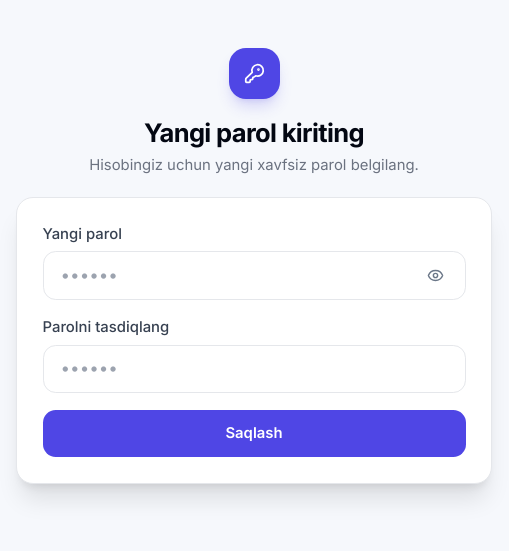
Test: ResetPassword sahifasi › server recovery tokenni rad etsa, muvaffaqiyat haqida yolg‘on xabar chiqmaydi
Step 1. Type "NewStrong123!" into the password field labelled "Yangi parol" → (254, 276), box x1=42 y1=251 x2=466 y2=300
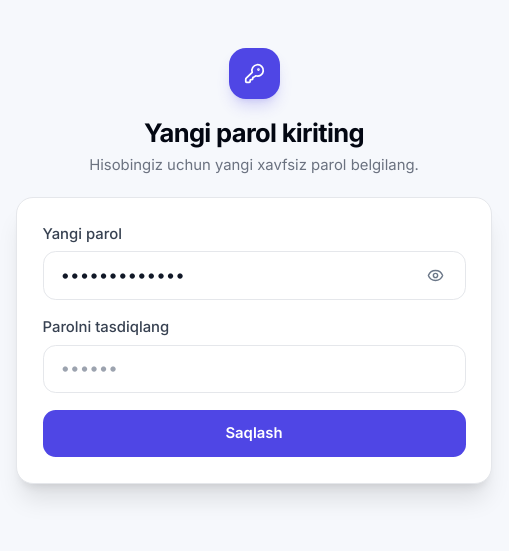
Step 2. Type "NewStrong123!" into the password field labelled "Parolni tasdiqlang" → (254, 369), box x1=42 y1=345 x2=466 y2=393
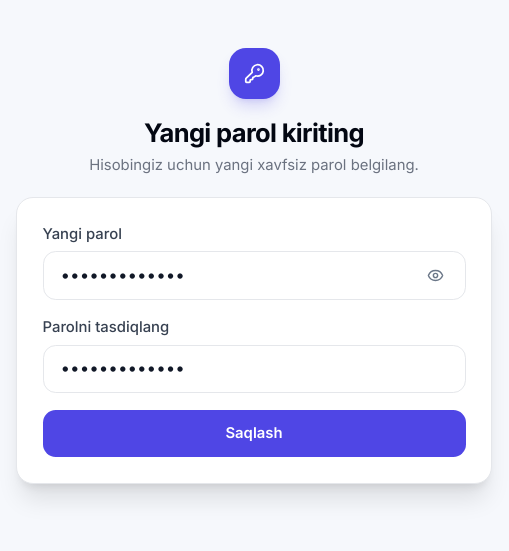
Step 3. Submit the form labelled "Yangi parol", box x1=42 y1=224 x2=466 y2=457
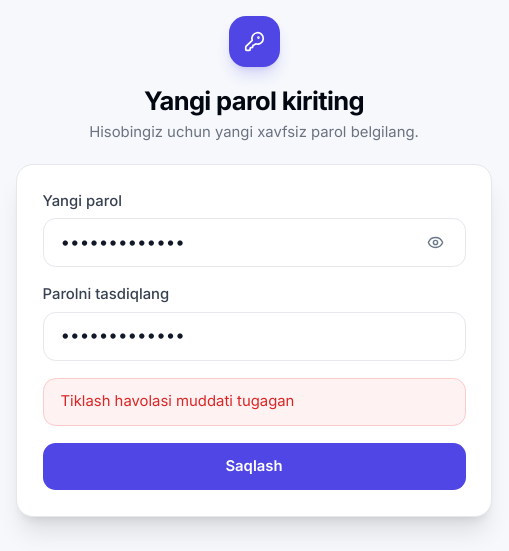
Now the message shows "muddati tugagan", box x1=60 y1=392 x2=294 y2=410
